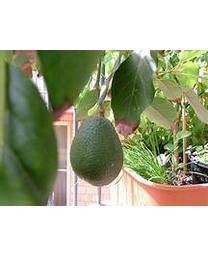avocado: (69, 115, 123, 188)
